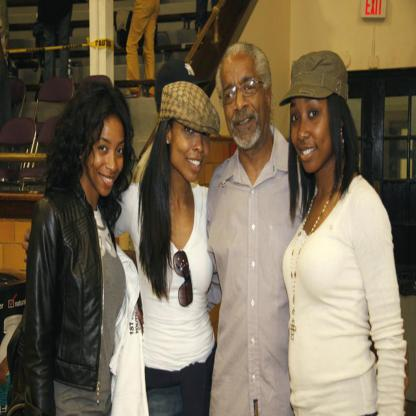face: (222, 55, 266, 149), (291, 83, 334, 173), (87, 115, 126, 193), (174, 100, 211, 180)
